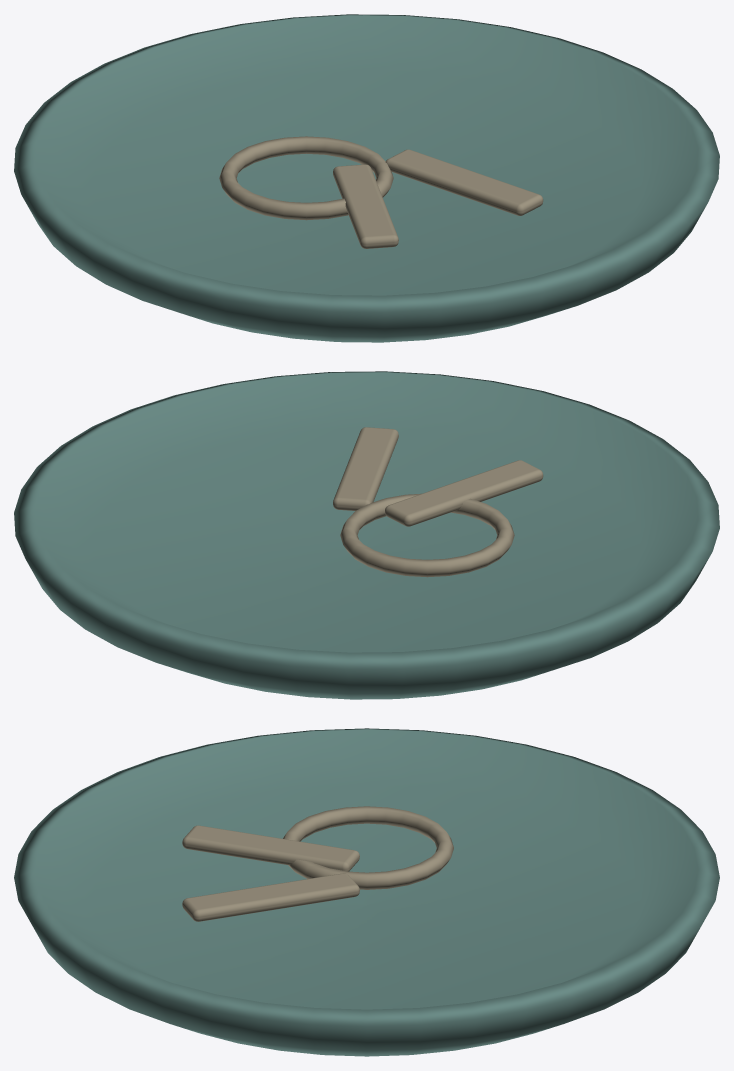
The model's file is family-key-dish-v1.glb.
3 views of the same model, one above another, from view 1: azimuth 30°, elevation 25°; view 2: azimuth 150°, elevation 25°; view 3: azimuth 270°, elevation 25° (orthographic).
Visible parts, largest first — view 1: Key dish, Key (×2), Keyring; view 2: Key dish, Key (×2), Keyring; view 3: Key dish, Key (×2), Keyring.
Part boxes in pixels (x1,y1,x2,y2): Key dish: (14, 14, 719, 342); Key (×2): (333, 149, 543, 248); Keyring: (219, 136, 393, 220); Key dish: (14, 371, 719, 699); Key (×2): (333, 427, 543, 526); Keyring: (340, 493, 514, 577); Key dish: (14, 728, 719, 1056); Key (×2): (182, 825, 359, 921); Keyring: (283, 806, 453, 889).
Size of the model in its own units: 0.162 by 0.0175 by 0.162.
